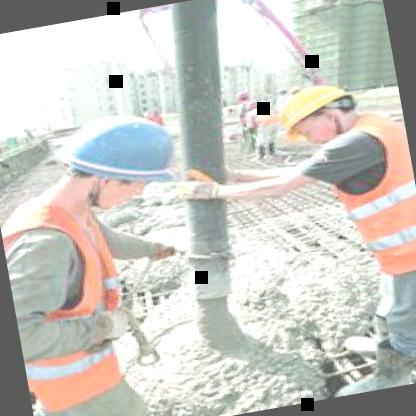helmet: (37, 92, 196, 218), (268, 72, 372, 150)
